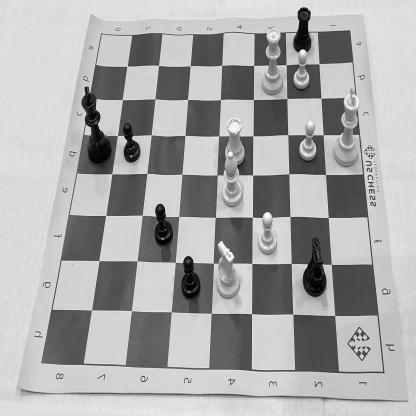black-king: (76, 80, 113, 166)
black-knight: (298, 233, 330, 303)
black-pawn: (178, 251, 204, 304), (152, 198, 177, 248), (121, 120, 142, 164)
black-rook: (291, 4, 315, 55)
white-bishop: (221, 148, 245, 210)
white-king: (329, 81, 365, 171)
white-knight: (214, 236, 240, 302)
white-pawn: (256, 209, 281, 258), (296, 117, 320, 164), (290, 46, 313, 92)
white-queen: (257, 22, 288, 101)
white-rook: (223, 113, 247, 170)
